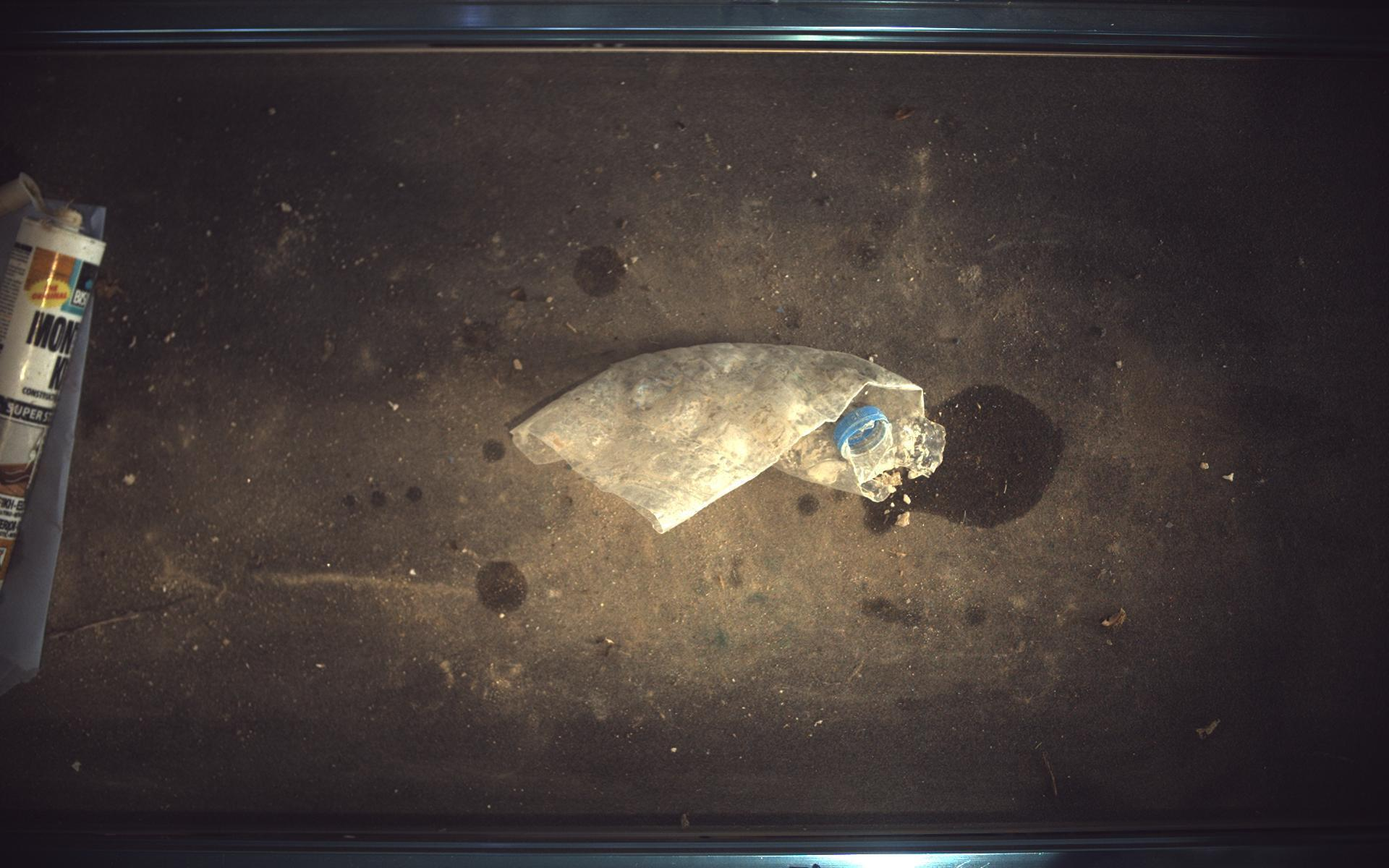general_w: (511, 343, 947, 532)
